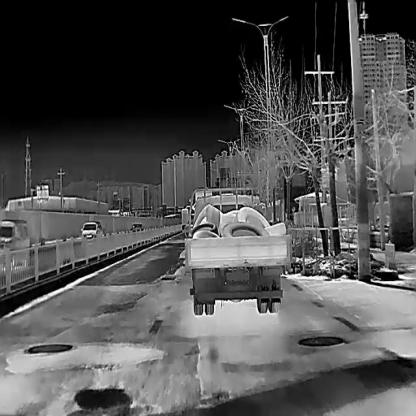car: (0, 217, 29, 275), (81, 220, 102, 244), (130, 223, 144, 236)
truck: (184, 187, 290, 316)
